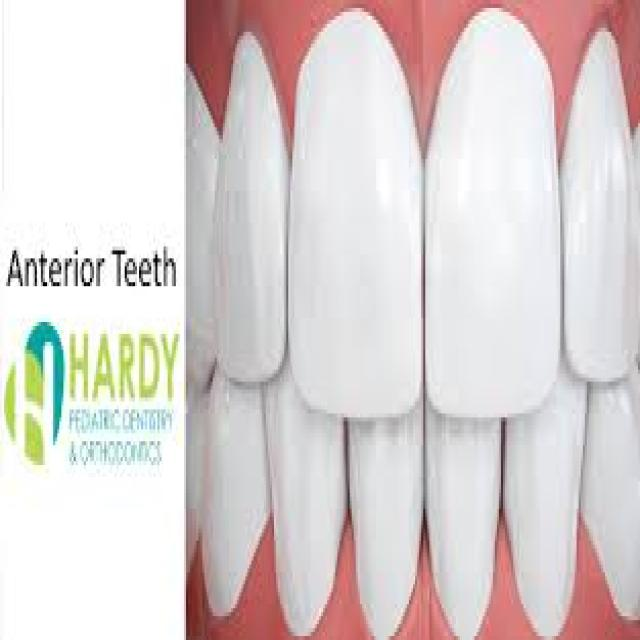tooth: (284, 20, 428, 409), (430, 12, 562, 413), (568, 4, 640, 386), (217, 36, 282, 382), (421, 369, 503, 640), (270, 370, 343, 632), (345, 381, 417, 640), (204, 362, 268, 616), (582, 377, 640, 628), (511, 377, 566, 640), (184, 71, 215, 378), (188, 386, 200, 628)
